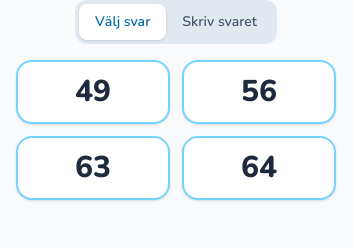
the times tables: just the answer › can be answered by writing instead - and remembers the choice
Click the radio button labelled "Skriv svaret" at coordinates (220, 22), box [166, 4, 273, 40]
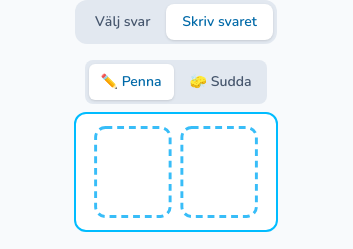
Check: the icon is shown, box [74, 112, 278, 232]
